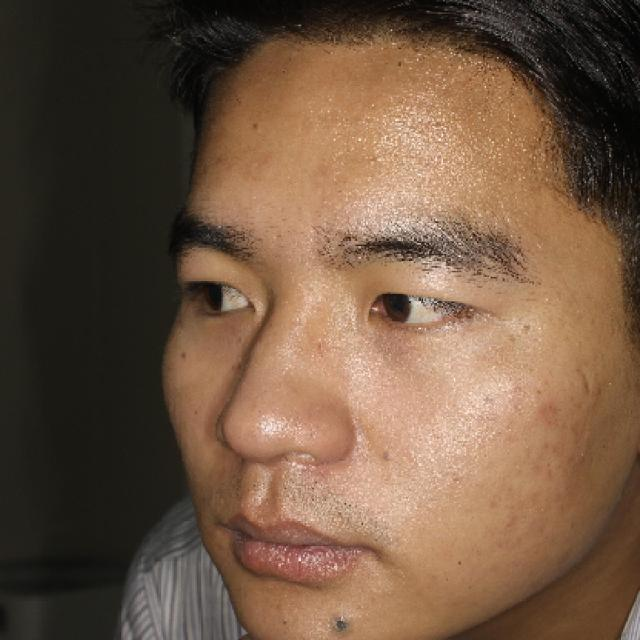Blackheads: (242, 111, 268, 138), (172, 343, 195, 372)
Whiteheads: (372, 440, 403, 471)
